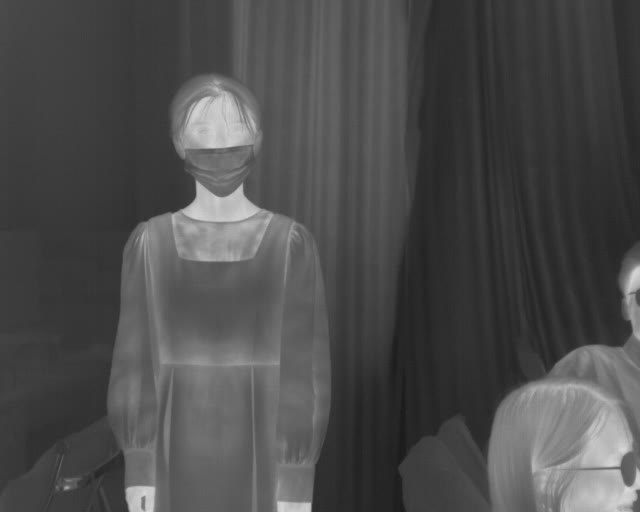face: (166, 72, 265, 200)
